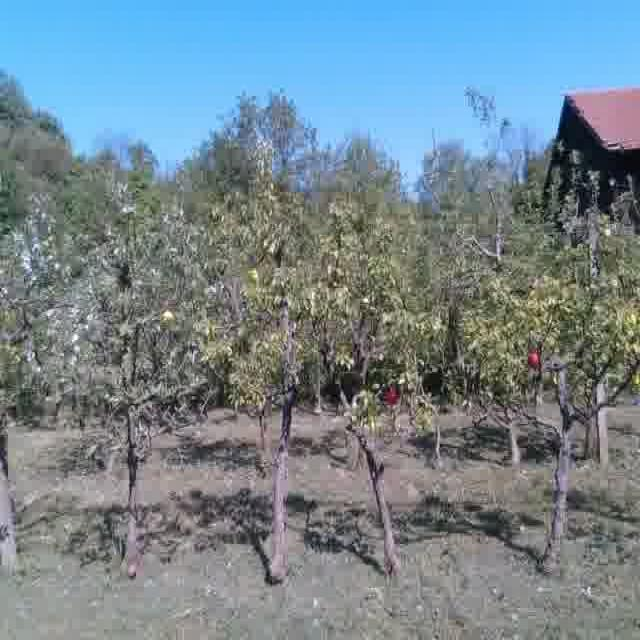red: (526, 347, 543, 368), (385, 383, 399, 404)
